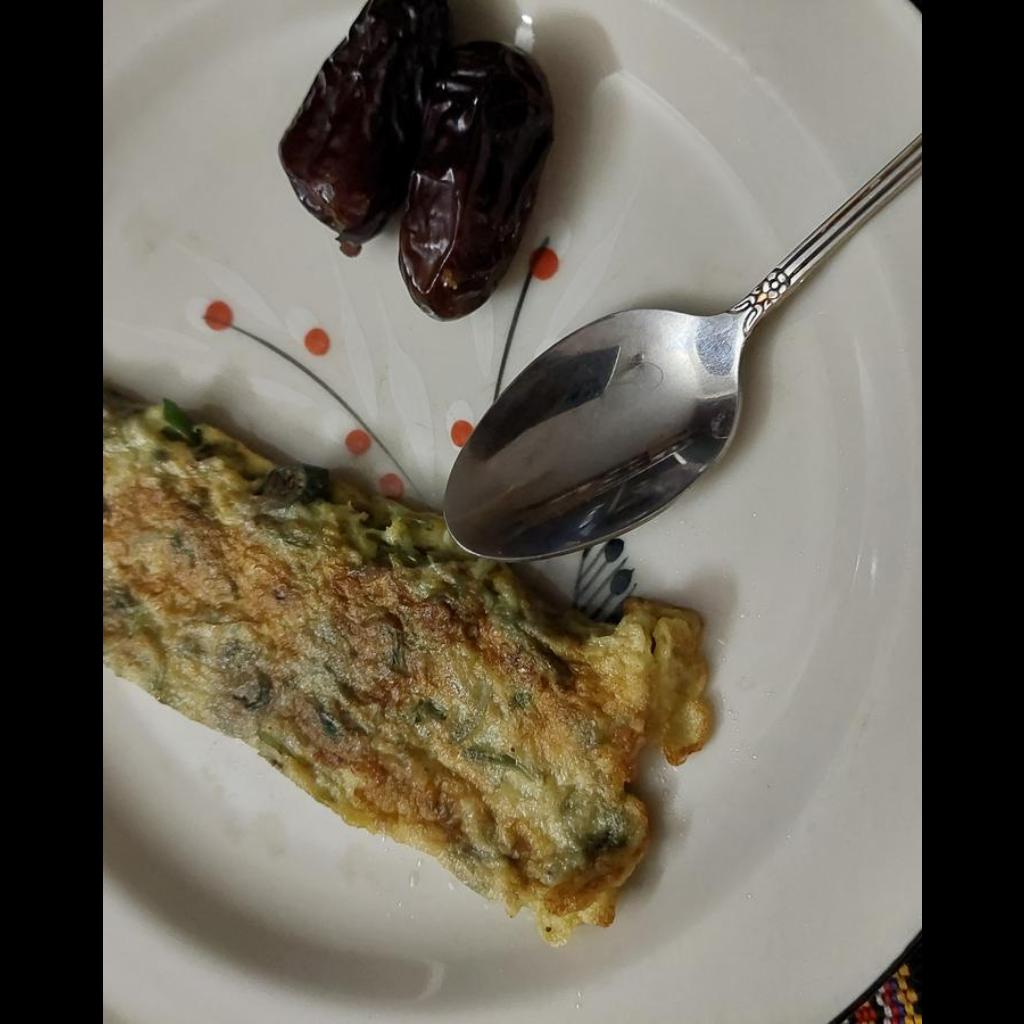dates: (273, 4, 552, 321)
egg-poached: (102, 378, 711, 939)
